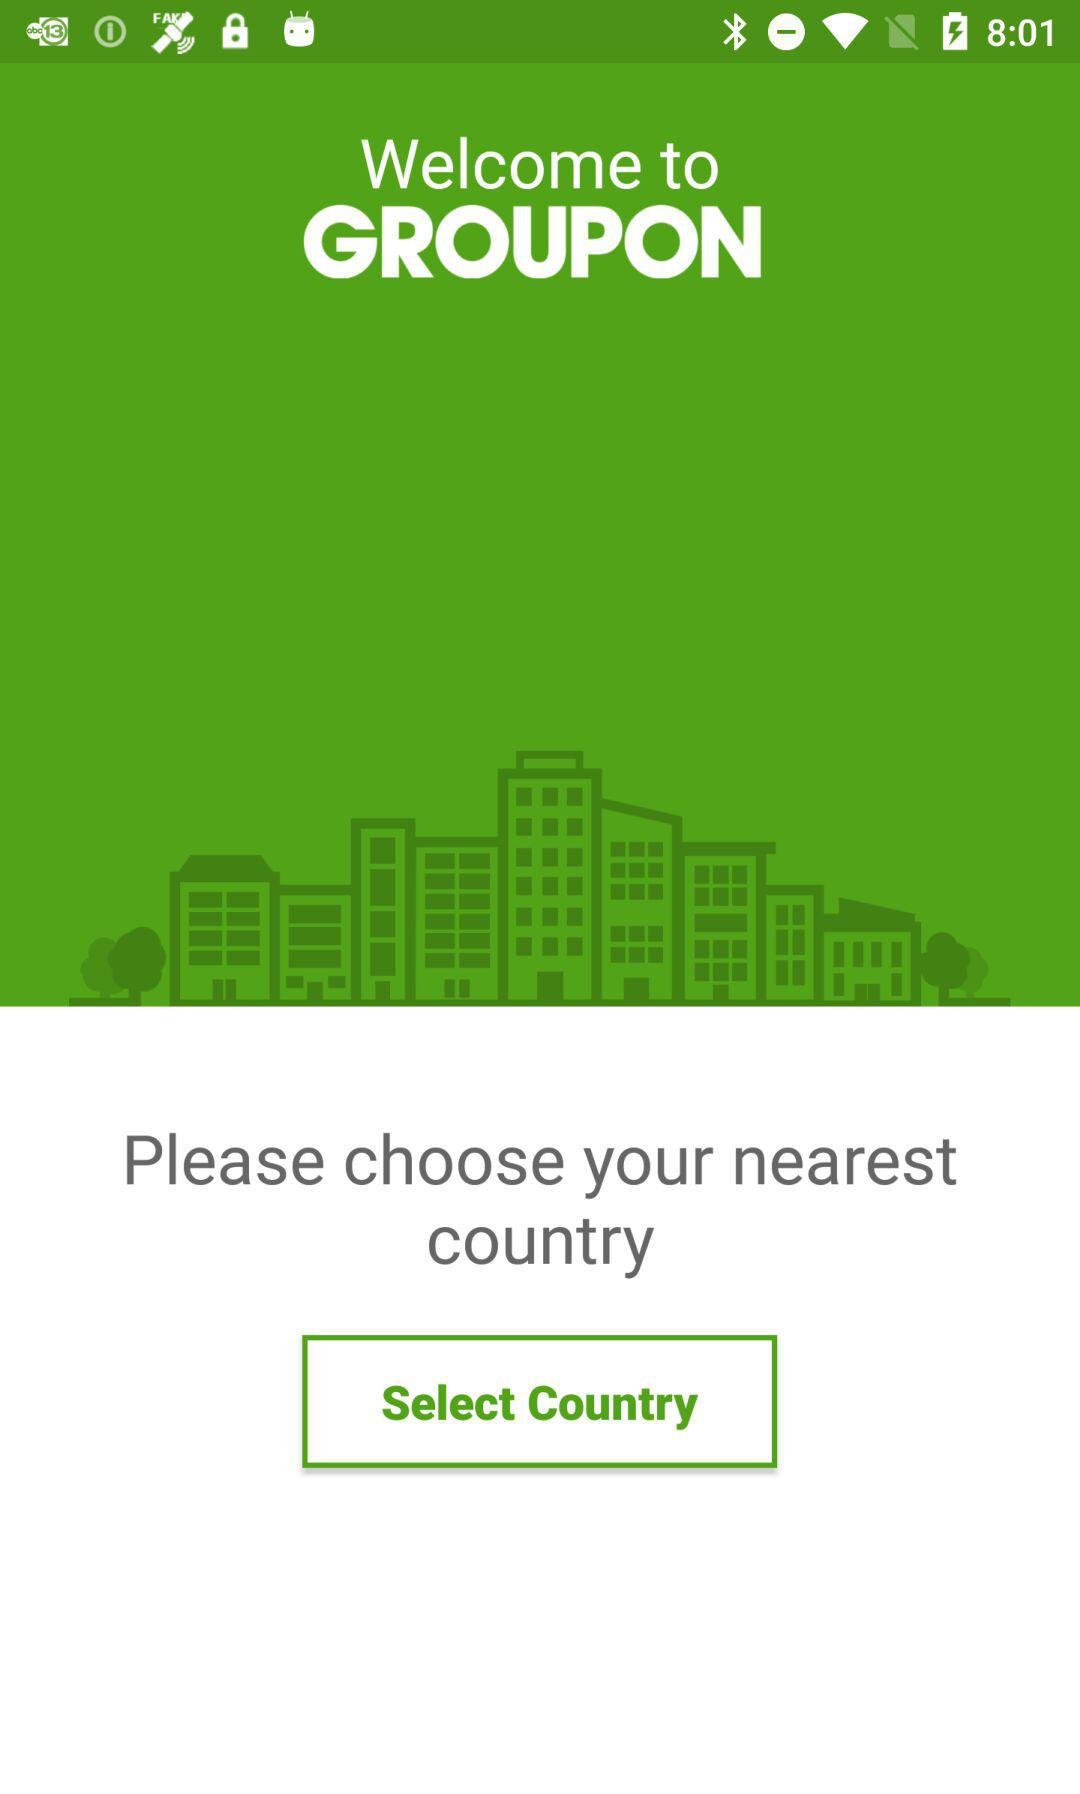Image: (67, 750, 1012, 1007)
Text: (126, 1132, 960, 1281), (304, 204, 764, 281), (359, 135, 719, 191)
TextButton: (304, 1335, 778, 1469)
UpperTaskBar: (1, 1, 1080, 64)
